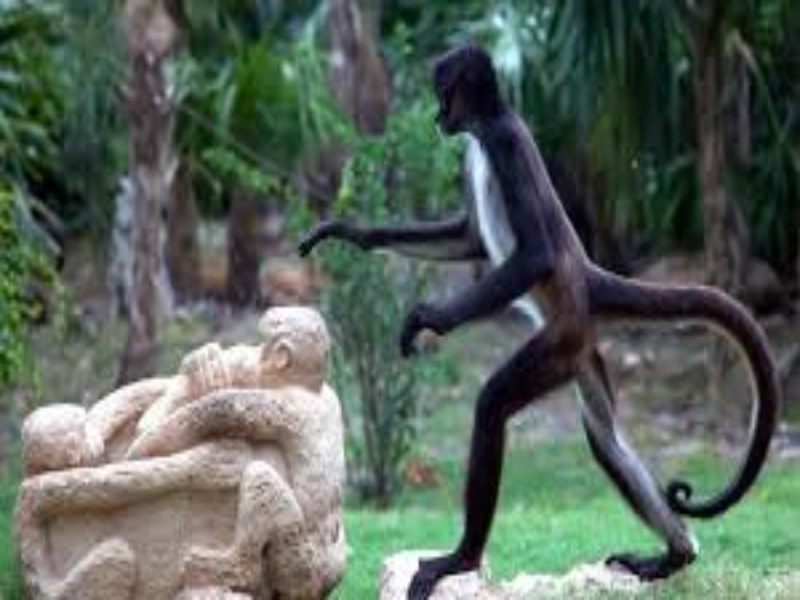monkey: (313, 40, 789, 596)
